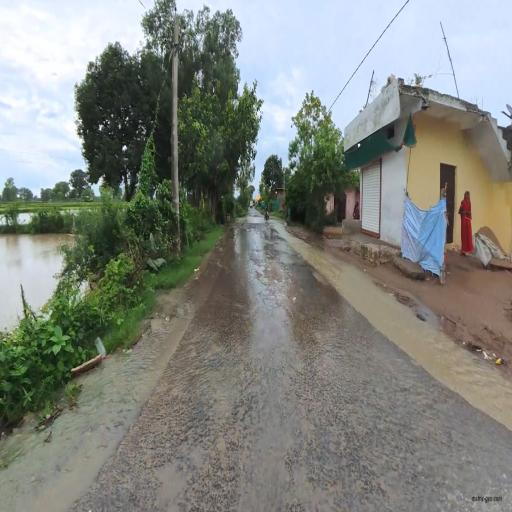drainage_issue: (7, 250, 233, 490), (284, 224, 509, 461)
ravelling: (113, 335, 487, 507)
